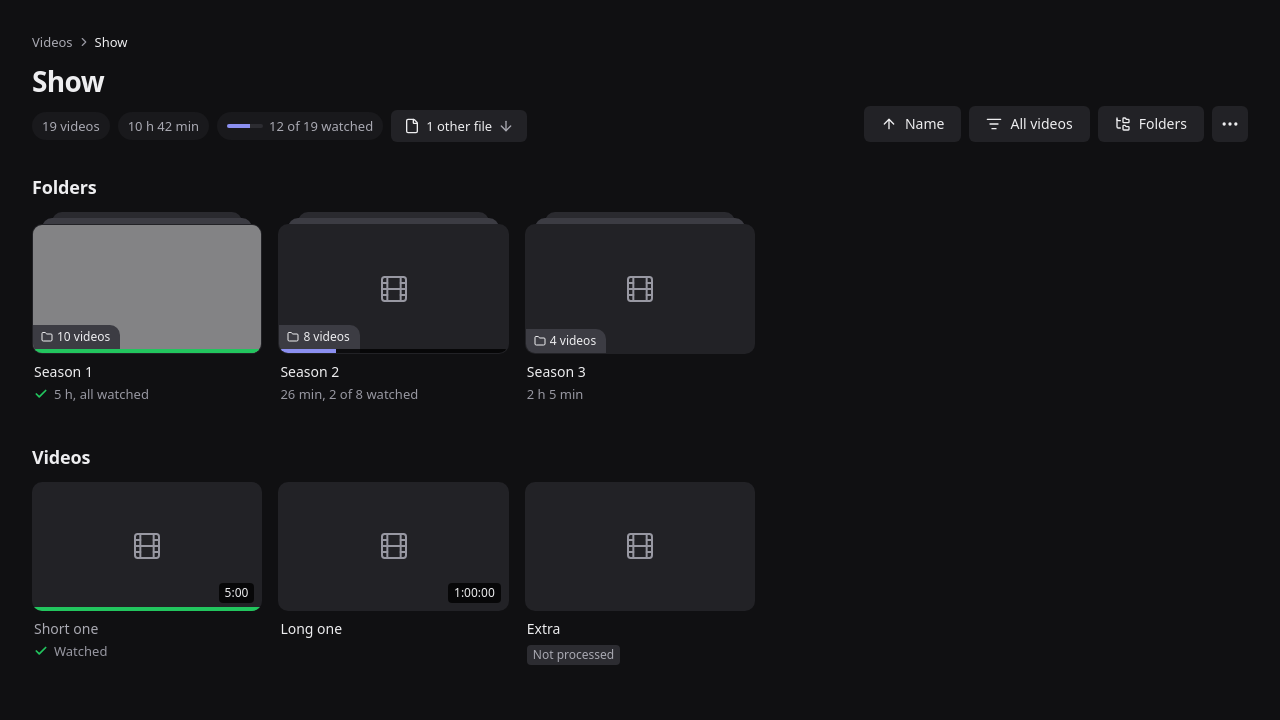
Test case: FolderPage › filters the videos by status and shows how many are hidden
Check: the button "1:00:00 Long one" is shown, box left=278, top=482, right=509, bottom=665
Click the button with aria-label "Show all videos" at [1030, 124], box left=969, top=106, right=1090, bottom=142
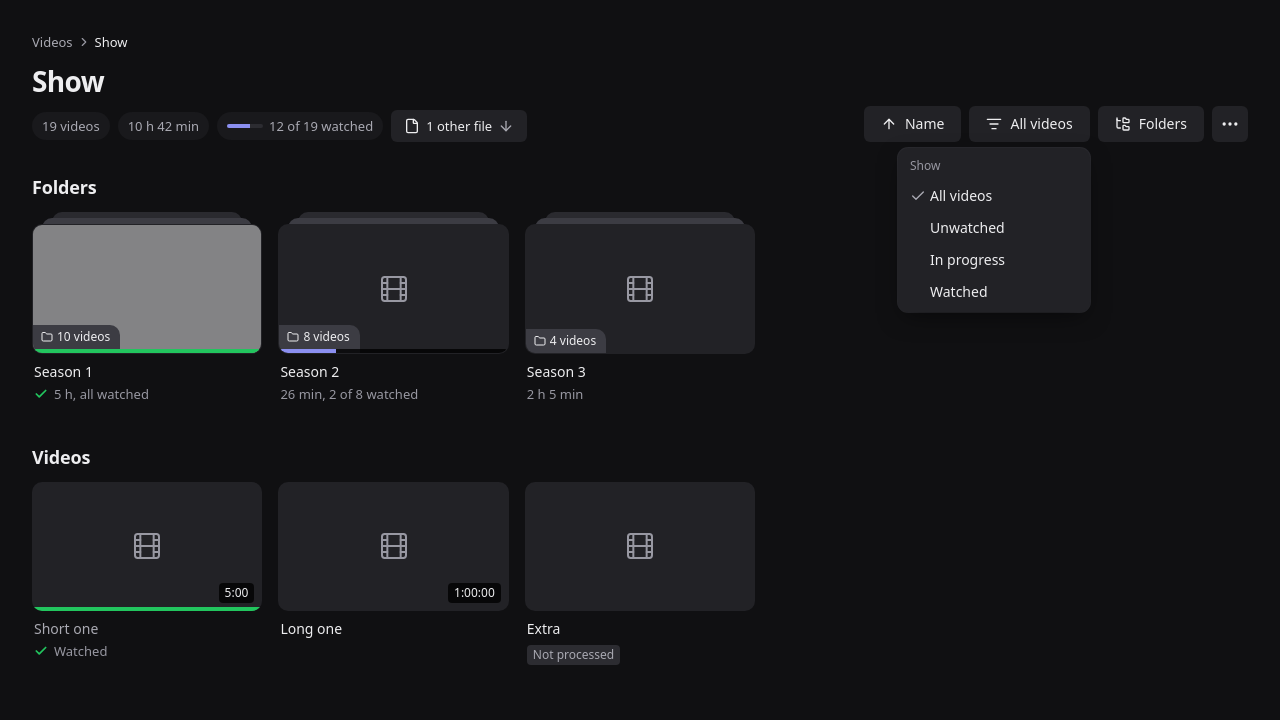
Click the menu item "Unwatched" at [967, 228], box left=930, top=218, right=1005, bottom=237
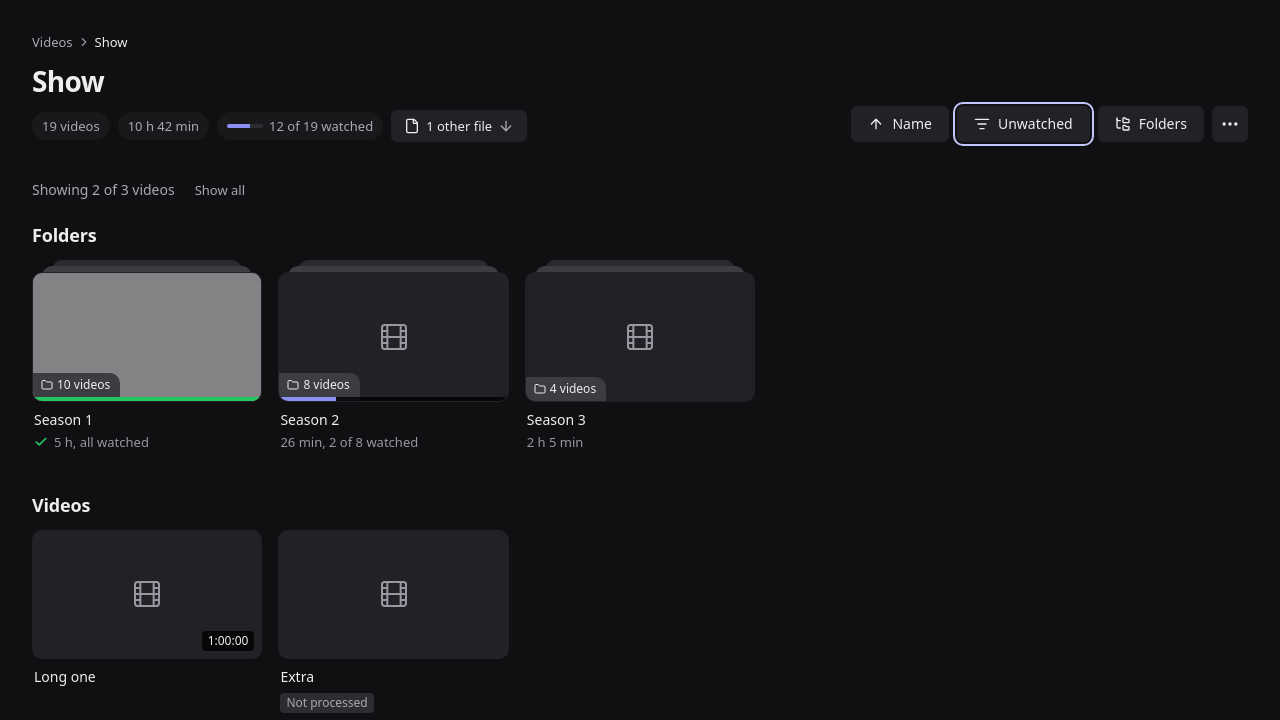
Check: the message reads "Showing 2 of 3 videos", box left=32, top=180, right=175, bottom=200
Click the button "Show all" at [220, 190], box left=183, top=174, right=257, bottom=206
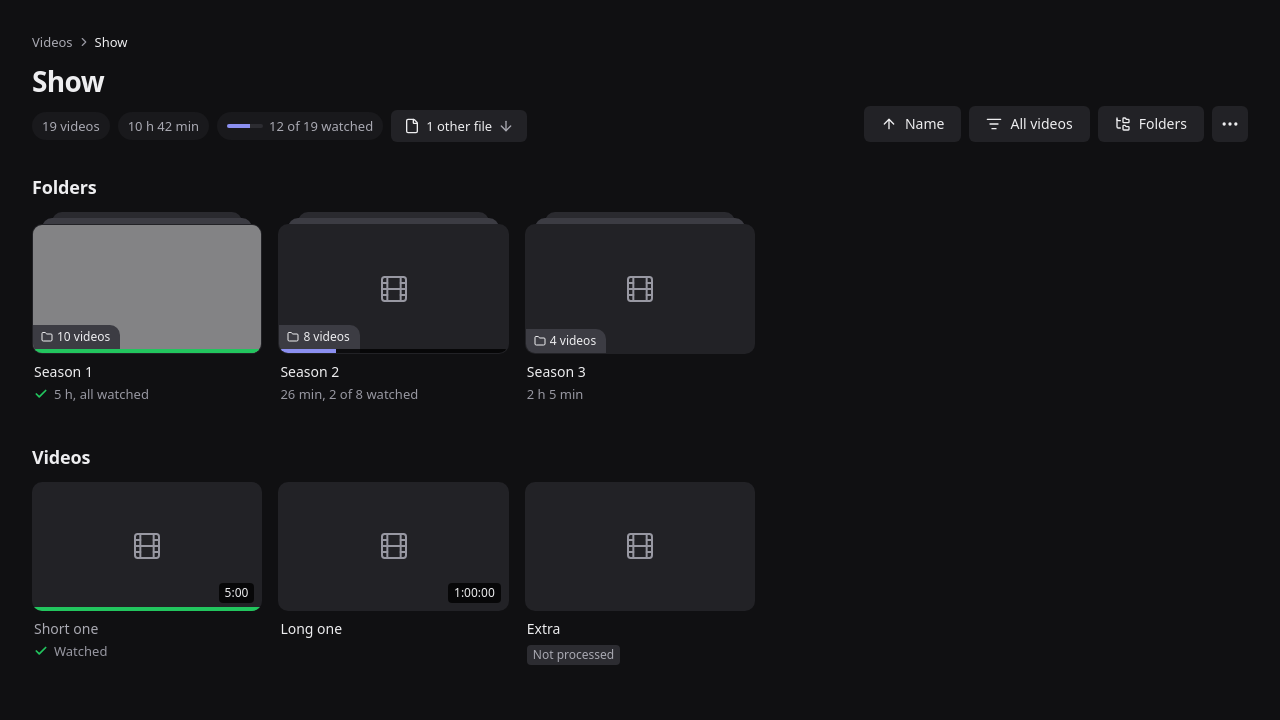
Check: the text "Showing" is gone
